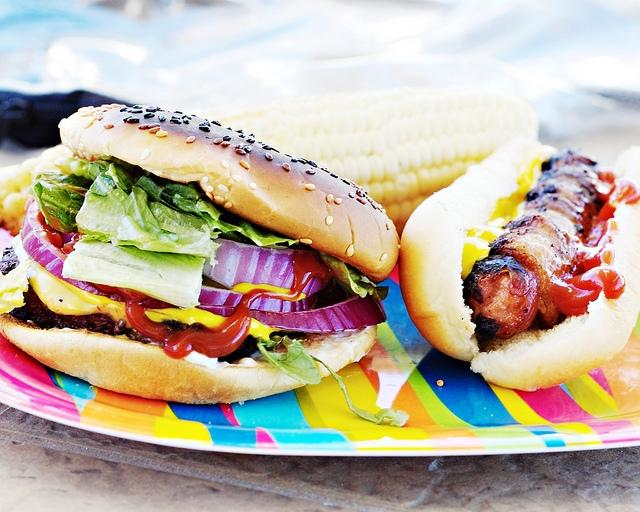corn: (197, 84, 539, 234)
lettuce: (75, 163, 221, 267), (61, 240, 206, 308), (27, 180, 85, 234)
onion: (21, 200, 235, 317), (203, 239, 322, 297), (249, 292, 387, 332), (199, 284, 316, 312)
